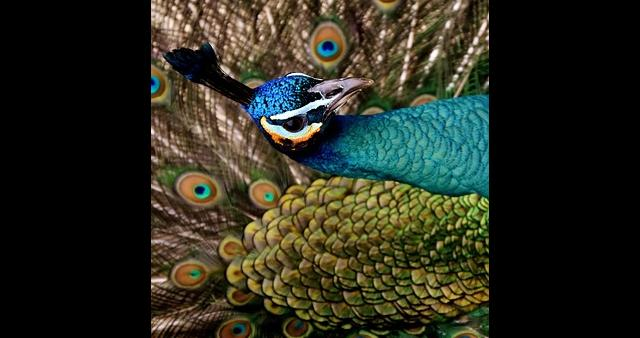Non_Gorille: (153, 0, 473, 338)
